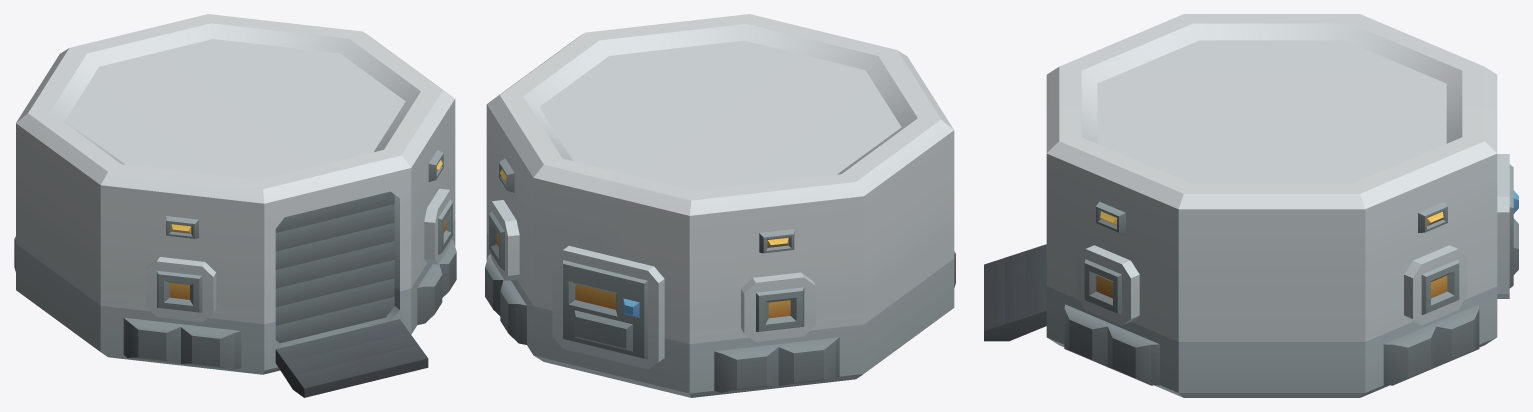
Rendered from kay-hangar.gltf.
The picture shows the model from 3 angles, left to right: view 1: azimuth 30°, elevation 25°; view 2: azimuth 150°, elevation 25°; view 3: azimuth 270°, elevation 25°; orthographic projection. The views are drawn at different scales.
Parts seen in each view (by area): view 1: basemodule_garage; view 2: basemodule_garage; view 3: basemodule_garage.
Part boxes in pixels (left/top/right/bottom): basemodule_garage: left=14, top=14, right=456, bottom=397; basemodule_garage: left=485, top=14, right=955, bottom=397; basemodule_garage: left=984, top=14, right=1518, bottom=397.
Size of the model in its own units: 5.2 by 2.6 by 6.17.
Materials: 1 (1 with a texture image).
